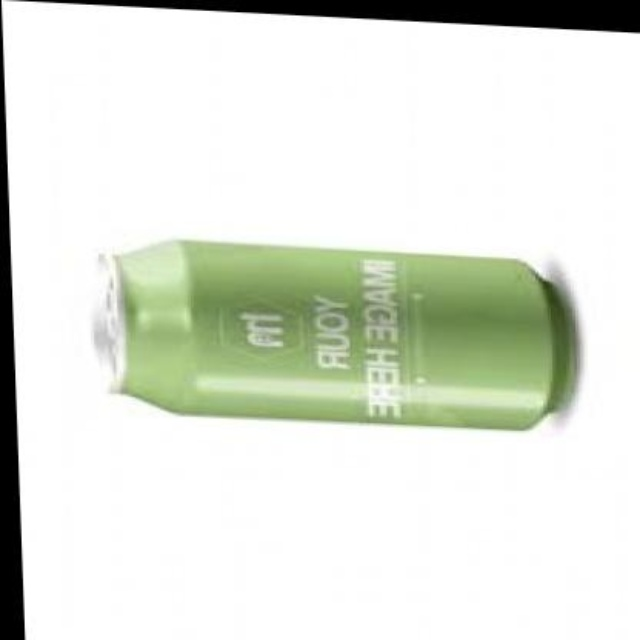trash: (112, 240, 577, 428)
